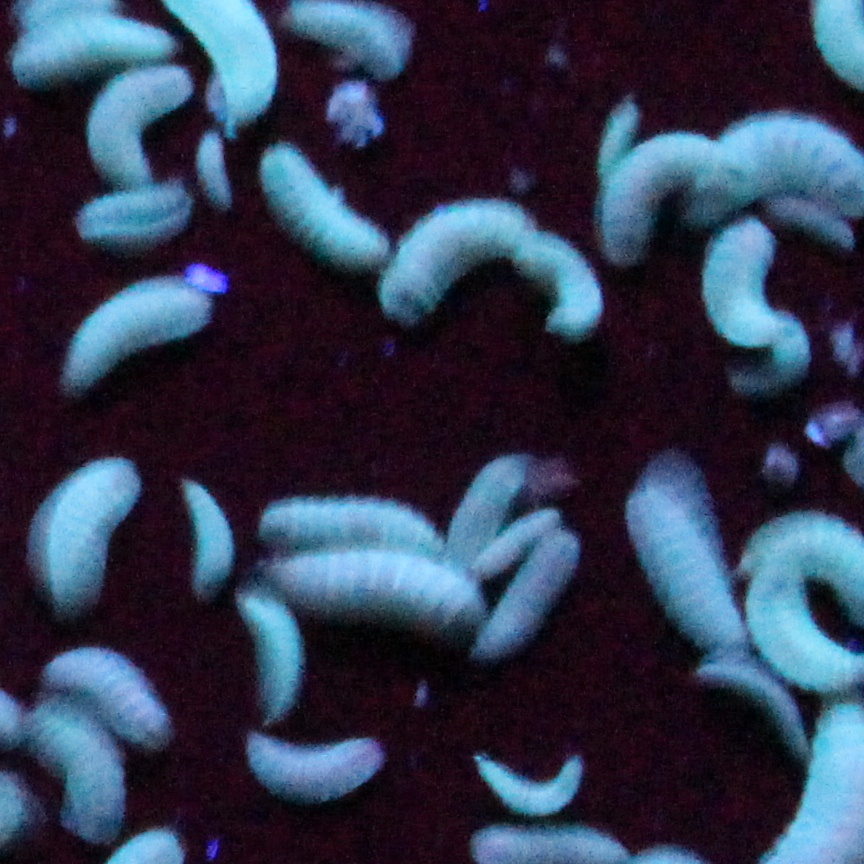larve: (623, 451, 748, 658), (373, 195, 537, 320), (269, 543, 491, 630), (58, 276, 216, 397), (41, 447, 137, 605), (600, 128, 714, 255), (262, 145, 387, 260), (469, 528, 577, 658), (83, 62, 191, 185), (25, 701, 121, 839), (12, 14, 179, 93), (39, 649, 177, 743), (262, 501, 454, 560), (698, 214, 775, 339), (521, 230, 604, 339), (446, 445, 531, 551), (237, 591, 304, 724), (473, 747, 594, 818), (252, 733, 379, 799), (179, 476, 235, 593), (77, 185, 191, 239), (477, 508, 564, 570), (200, 133, 233, 208)
